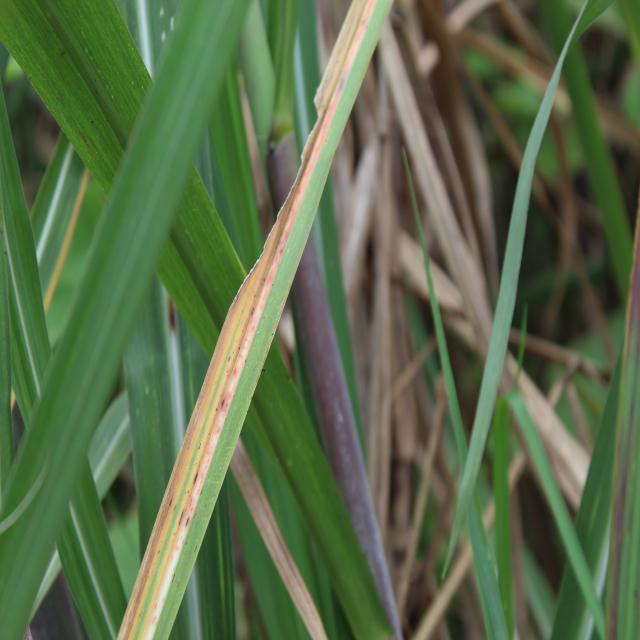Sugarcane: (117, 0, 396, 639)
